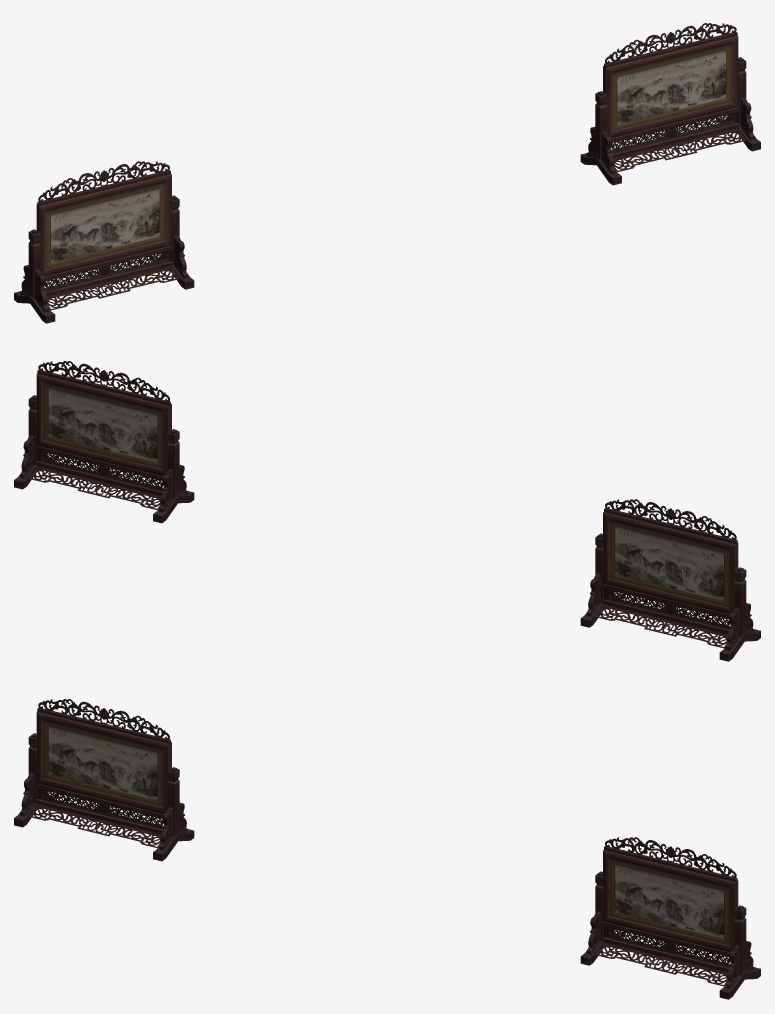
The model's file is Ink Paintings.fbx.
3 views of the same model, one above another, from view 1: azimuth 30°, elevation 25°; view 2: azimuth 150°, elevation 25°; view 3: azimuth 330°, elevation 25° (orthographic).
Visible parts, largest first — view 1: ping_01, ping_02; view 2: ping_01, ping_02; view 3: ping_01, ping_02.
Part boxes in pixels (x1,y1,x2,y2): ping_01: (580,23,760,185); ping_02: (14,161,194,323); ping_01: (14,361,194,523); ping_02: (580,499,760,661); ping_01: (580,837,760,999); ping_02: (14,699,194,861).
Size of the model in its own units: 1008 by 169 by 78.95.
Materials: 2 (2 with a texture image).
